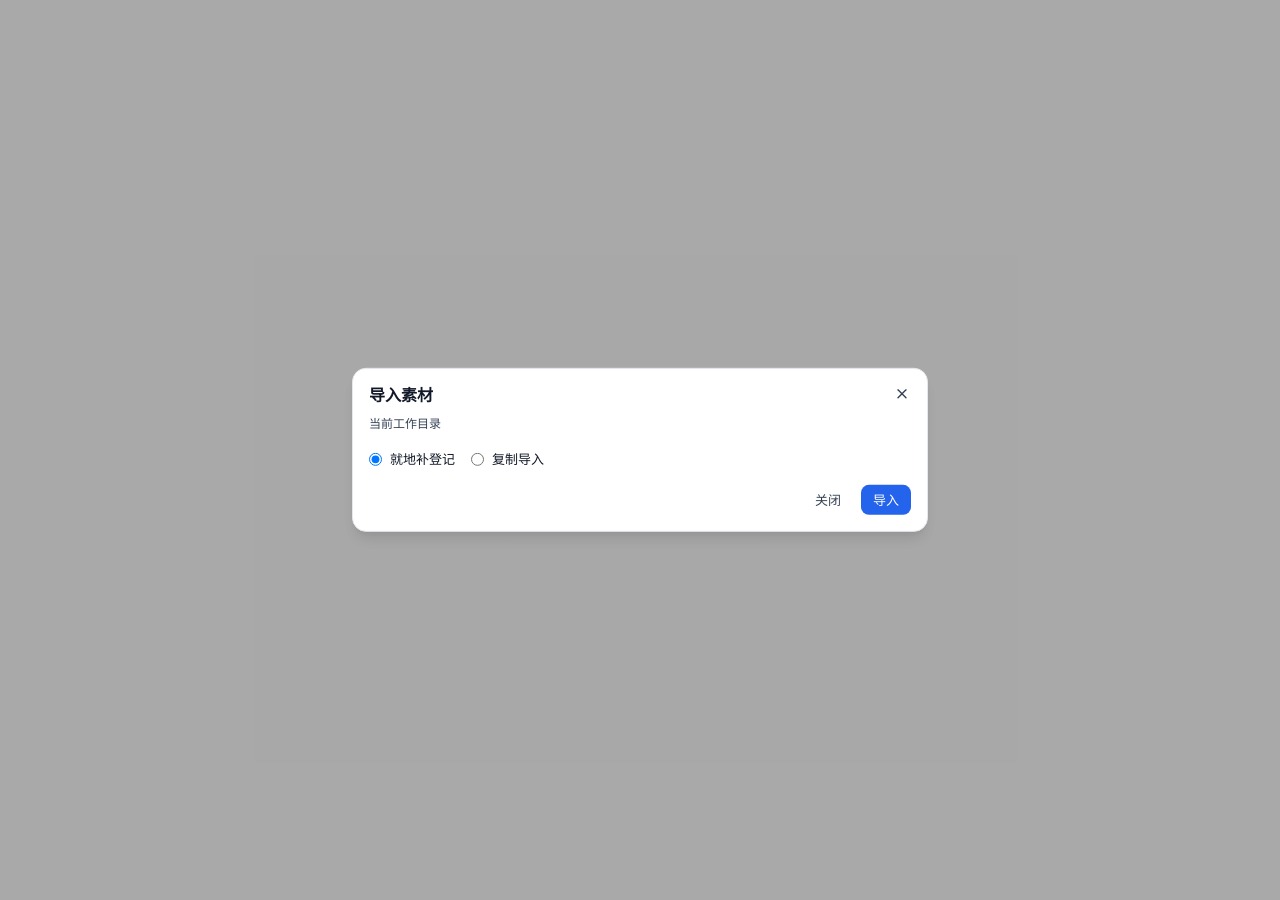
Test: 素材导入 › 失败任务重试创建新导入，不再查询失败句柄
Click the button "导入" at (886, 500), box top-left (861, 485), bottom-right (911, 515)
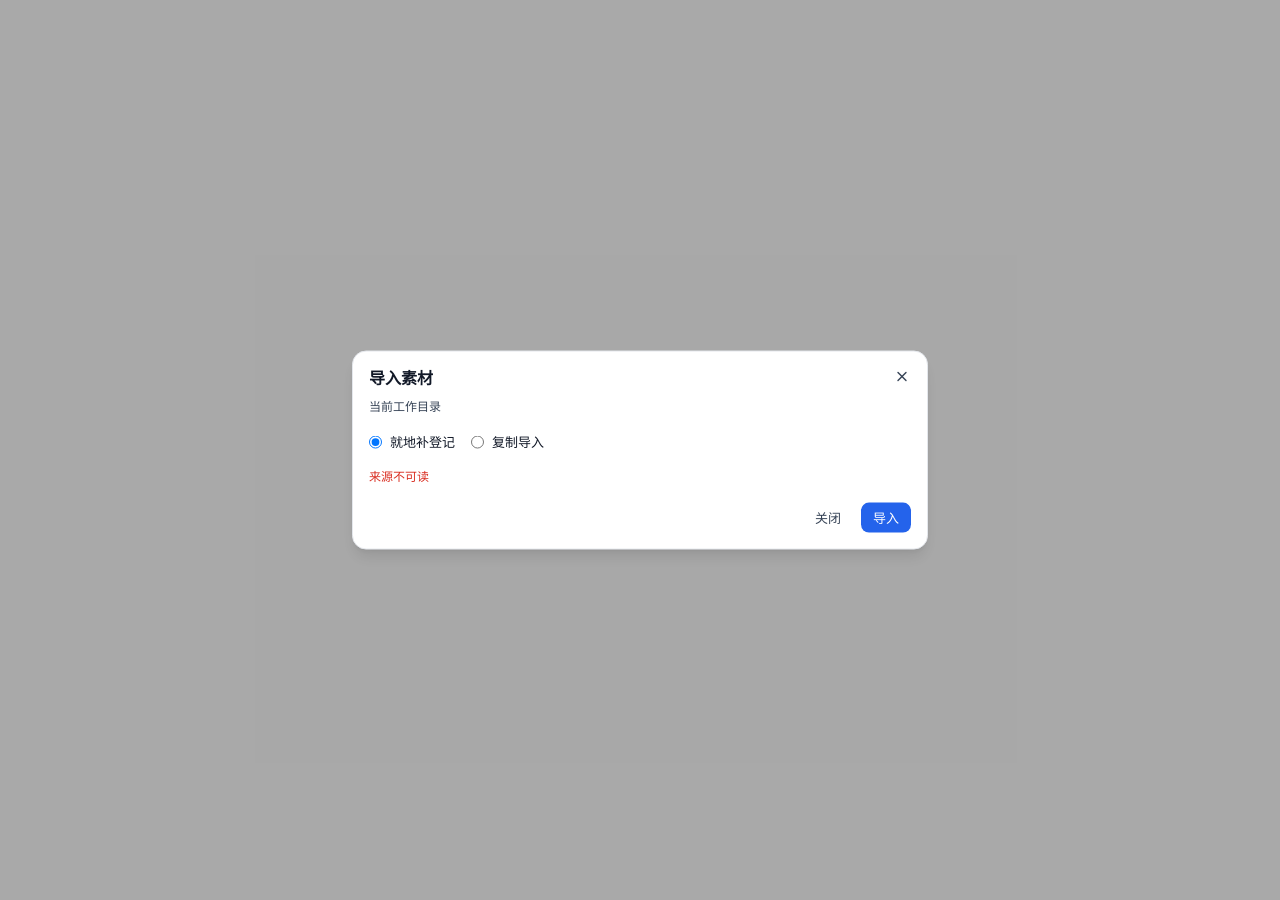
Now the text "来源不可读" is shown, box top-left (369, 469), bottom-right (429, 484)
Click the button "导入" at (886, 518), box top-left (861, 502), bottom-right (911, 532)
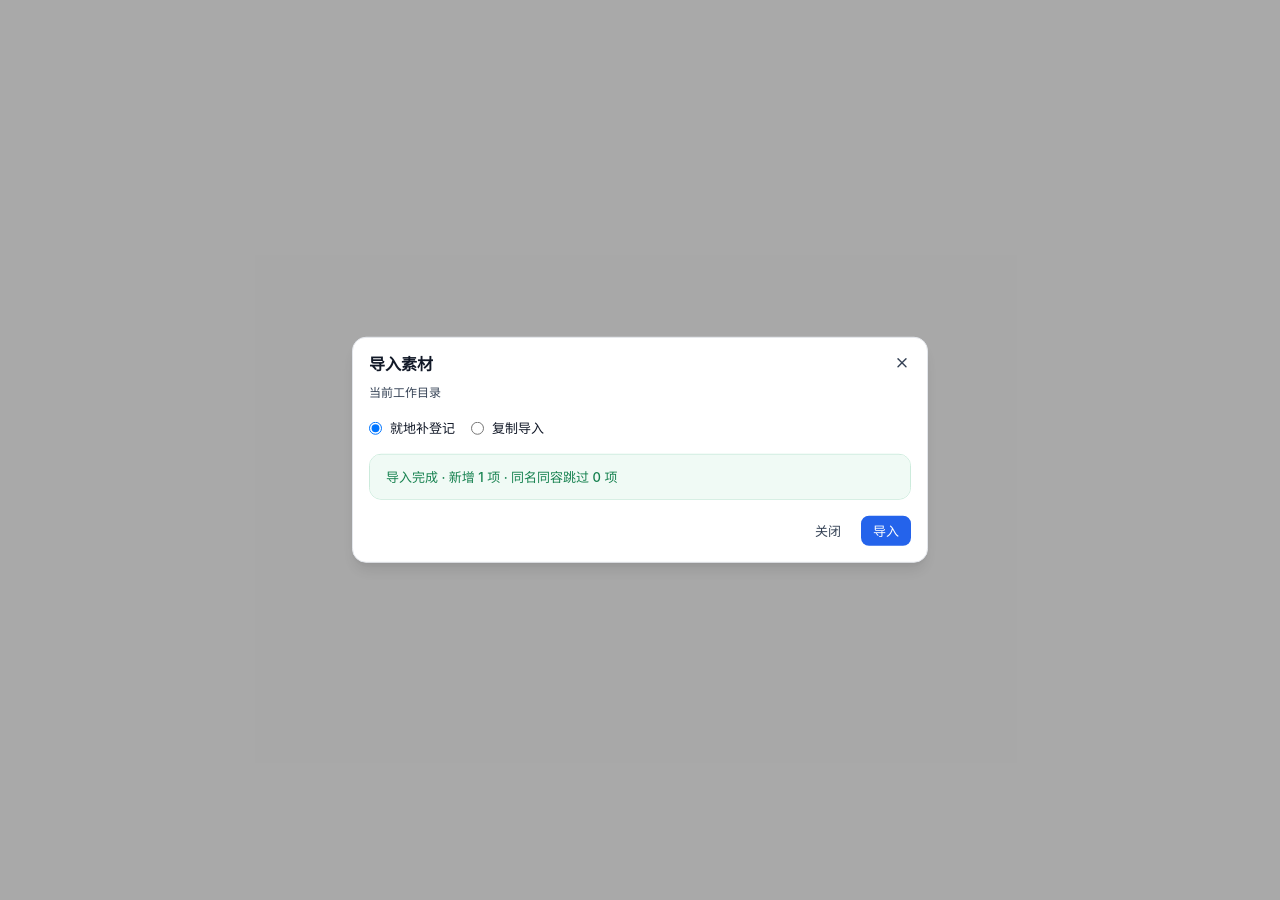
Now the heading "导入完成 · 新增 1 项 · 同名同容跳过 0 项" is shown, box top-left (370, 455), bottom-right (910, 499)
